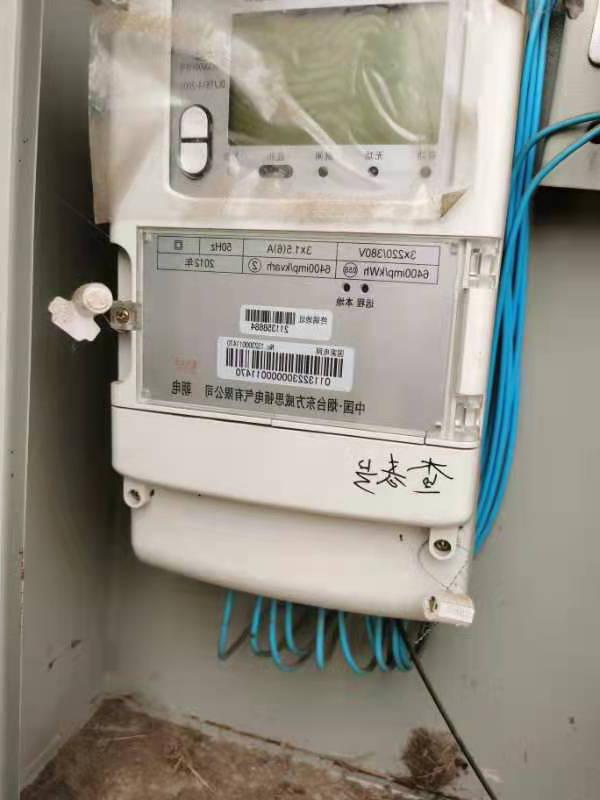digital: (110, 2, 476, 524)
